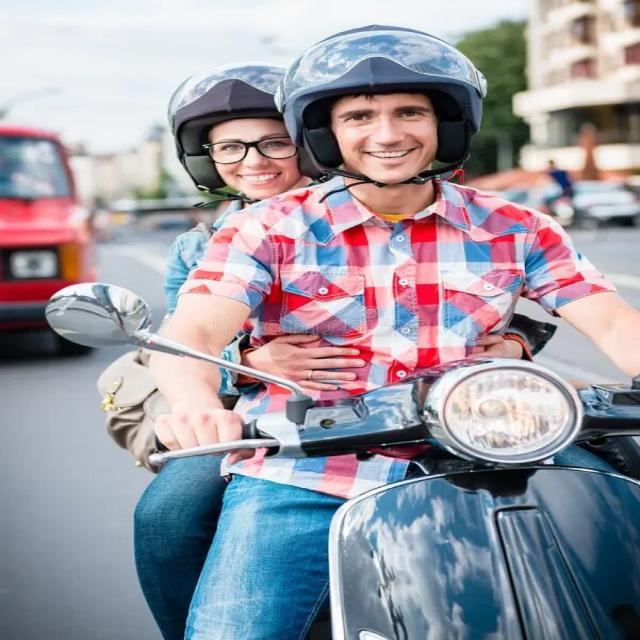helmet: (271, 18, 495, 192), (160, 55, 299, 211)
